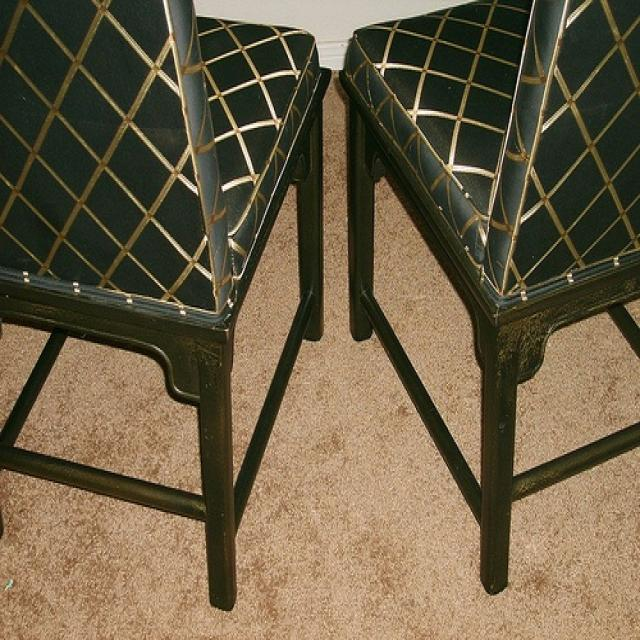chair: (0, 2, 330, 611), (340, 0, 638, 596)
